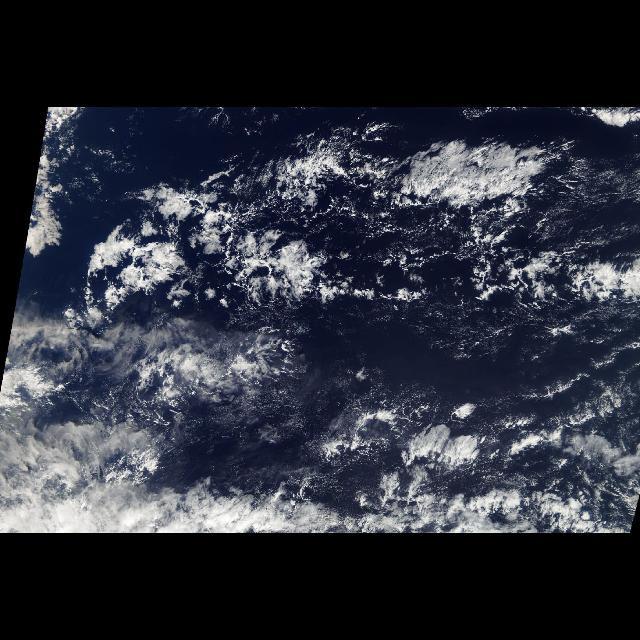Fish: (64, 126, 590, 342)
